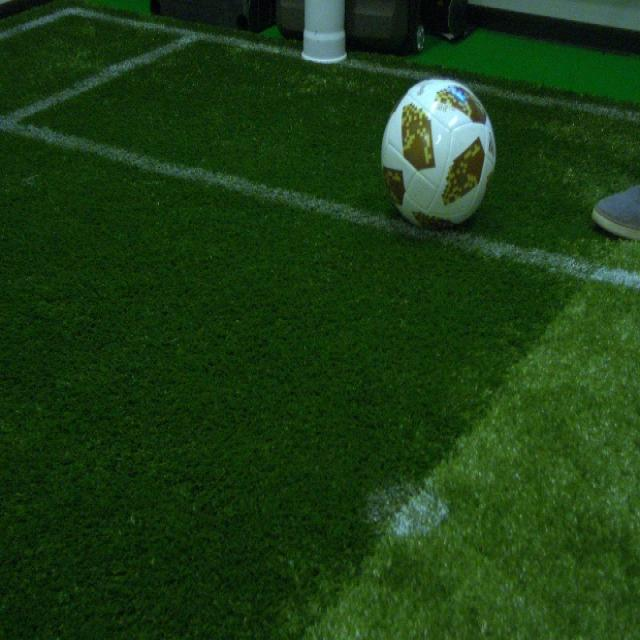ball: (379, 73, 497, 227)
goalpost: (304, 0, 340, 60)
